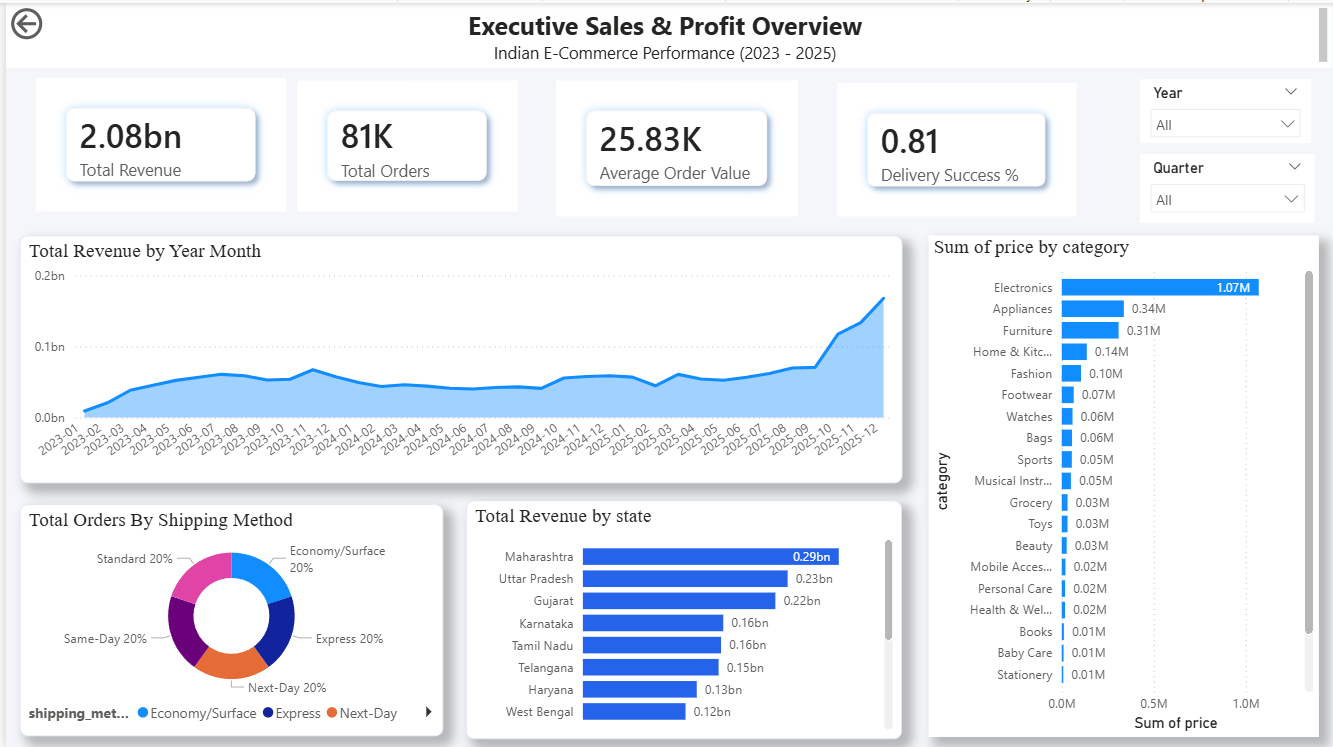

What the dashboard file says about the page in this screenshot:
{"tool":"powerbi","page":{"name":"Executive Sales Overview","canvas":[1280,720],"ordinal":0},"visuals":[{"type":"cardVisual","fields":{"Data":["Dim_Date.Total Orders"]},"box":[281.6,74.4,212.6,126.6],"z":0},{"type":"cardVisual","fields":{"Data":["Dim_Date.Total Revenue"]},"box":[29,72.4,241.3,129.1],"z":1000},{"type":"cardVisual","fields":{"Data":["Dim_Date.AOV"]},"box":[531,74.4,233.4,131.5],"z":2000},{"type":"areaChart","fields":{"Category":["Dim_Date.Year Month"],"Y":["Dim_Date.Total Revenue"]},"box":[13.3,224.4,851.7,238.9],"z":3000},{"type":"barChart","fields":{"Y":["Dim_Date.Total Revenue"],"Category":["customers.state"]},"box":[444,480.2,421,230.4],"z":4000},{"type":"donutChart","title":"Total Orders By Shipping Method","fields":{"Category":["orders.shipping_method"],"Y":["Sum(customers.total_orders)"]},"box":[13.3,483.8,409,224.4],"z":5000},{"type":"textbox","box":[0,0,1280,62.7],"z":6000},{"type":"slicer","fields":{"Values":["Dim_Date.Year"]},"box":[1094.2,73.6,165.3,61.5],"z":7000},{"type":"cardVisual","fields":{"Data":["Dim_Date.Delivery Success Rate"]},"box":[802.6,76.9,231,129],"z":8000},{"type":"actionButton","box":[0,0,100,40],"z":9000},{"type":"barChart","fields":{"Category":["products.category"],"Y":["Sum(products.price)"]},"box":[890.4,224.4,376.4,483.8],"z":10000},{"type":"slicer","fields":{"Values":["Dim_Date.Quarter"]},"box":[1094.2,146,168.9,66.4],"z":11000}]}

Visuals, with their boxes in screenshot pixels (x1, y1, x2, y2), scaled from the page's 1280x720 canvas onto the 1333x747 screenshot:
cardVisual - Dim_Date.Total Orders: l=293, t=77, r=515, b=209
cardVisual - Dim_Date.Total Revenue: l=30, t=75, r=281, b=209
cardVisual - Dim_Date.AOV: l=553, t=77, r=796, b=214
areaChart - Dim_Date.Year Month x Dim_Date.Total Revenue: l=14, t=233, r=901, b=481
barChart - Dim_Date.Total Revenue x customers.state: l=462, t=498, r=901, b=737
"Total Orders By Shipping Method" donutChart: l=14, t=502, r=440, b=735
textbox: l=0, t=0, r=1332, b=65
slicer - Dim_Date.Year: l=1140, t=76, r=1312, b=140
cardVisual - Dim_Date.Delivery Success Rate: l=836, t=80, r=1076, b=214
actionButton: l=0, t=0, r=104, b=42
barChart - products.category x Sum(products.price): l=927, t=233, r=1319, b=735
slicer - Dim_Date.Quarter: l=1140, t=151, r=1315, b=220
